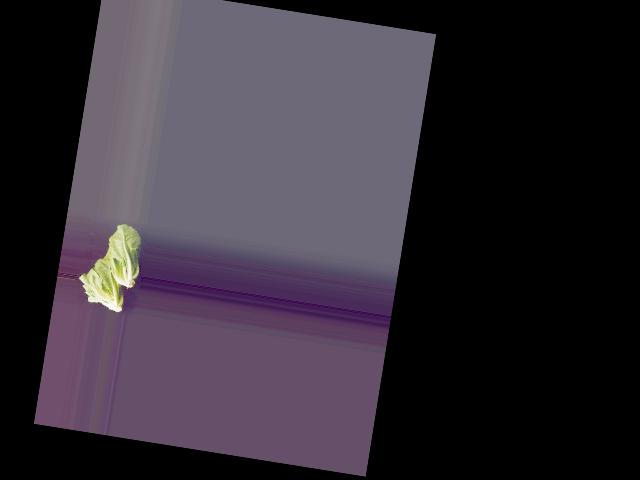lettuce: (75, 245, 137, 313)
